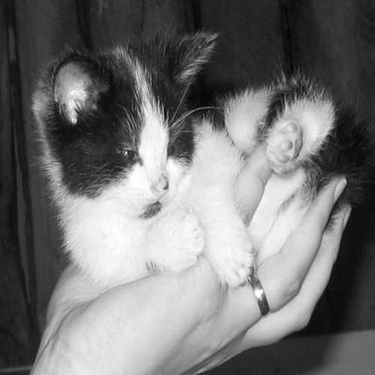cat: (28, 19, 371, 342)
